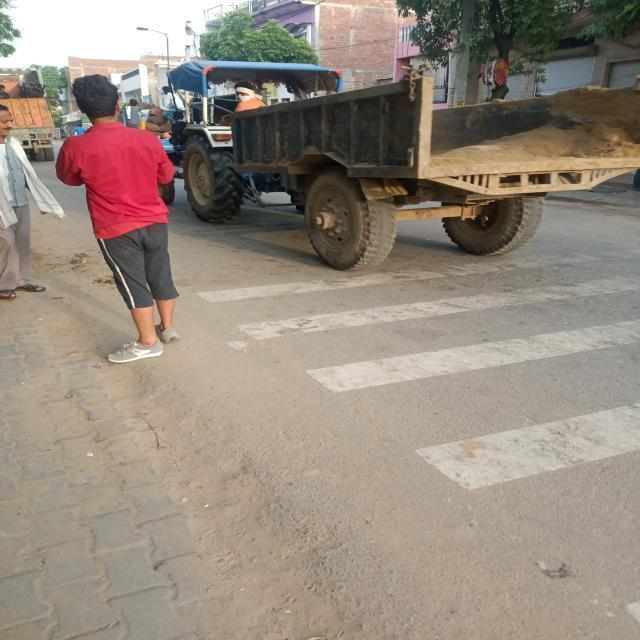tractor_back: (130, 48, 639, 274)
